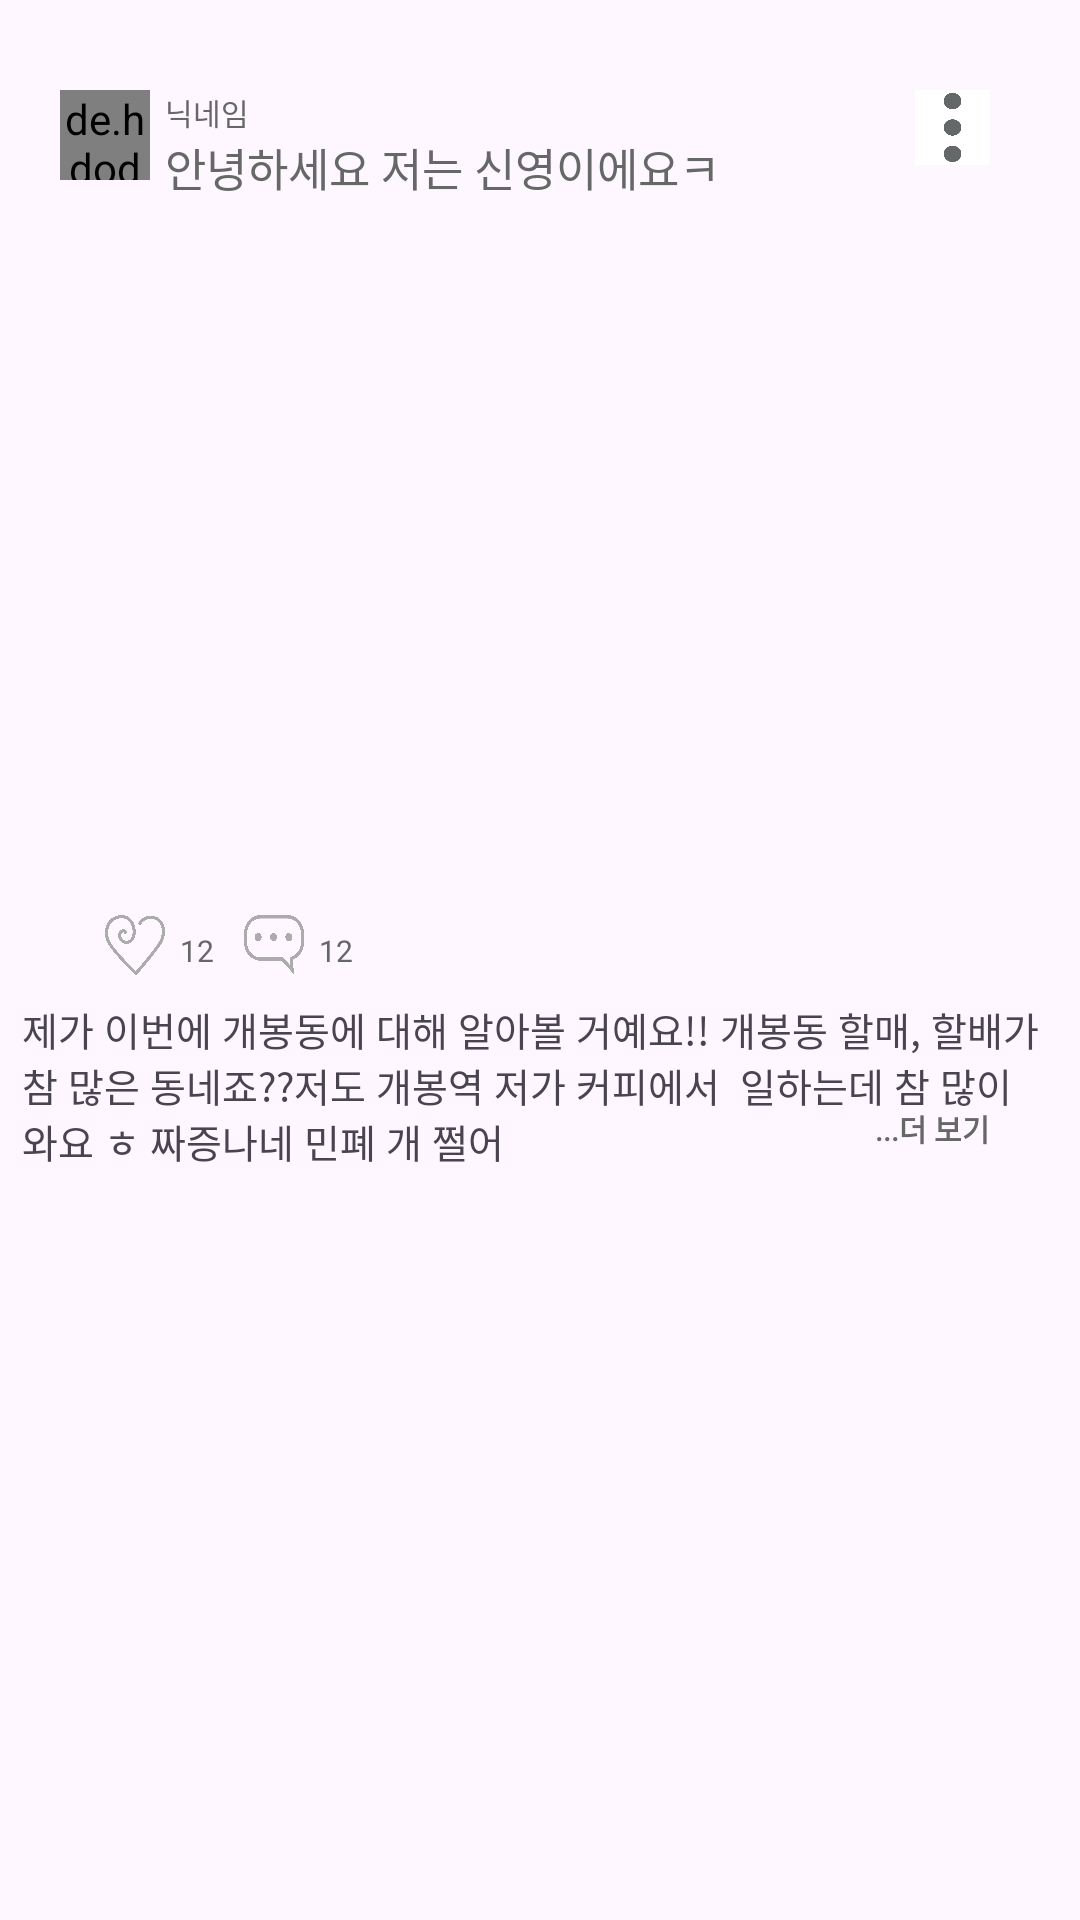

Screen size 1080px×1920px. Icon name, then its box in pixels as (x1, y1, x2, y2):
community: (244, 915, 304, 974)
like: (105, 915, 165, 975)
option: (944, 93, 961, 162)
